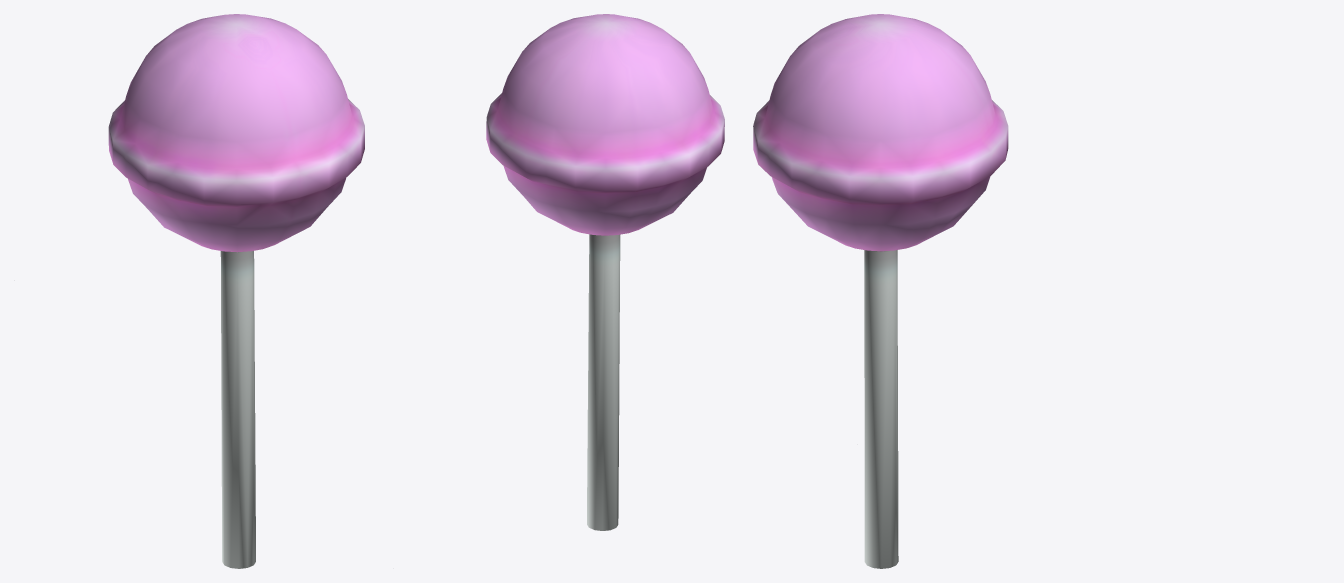
File: LolipopHammer.obj
3 views of the same model, side by side, from view 1: azimuth 30°, elevation 25°; view 2: azimuth 150°, elevation 25°; view 3: azimuth 270°, elevation 25° (orthographic). The views are drawn at different scales.
Parts seen in each view (by area): view 1: Object0012; view 2: Object0012; view 3: Object0012.
Boxes of the visible parts, <box> form: Object0012: <box>108,14,364,568</box>; Object0012: <box>486,14,724,530</box>; Object0012: <box>753,14,1008,568</box>.
Size of the model in its own units: 7.34 by 17.1 by 16.58.
2 materials, 1 textured.
